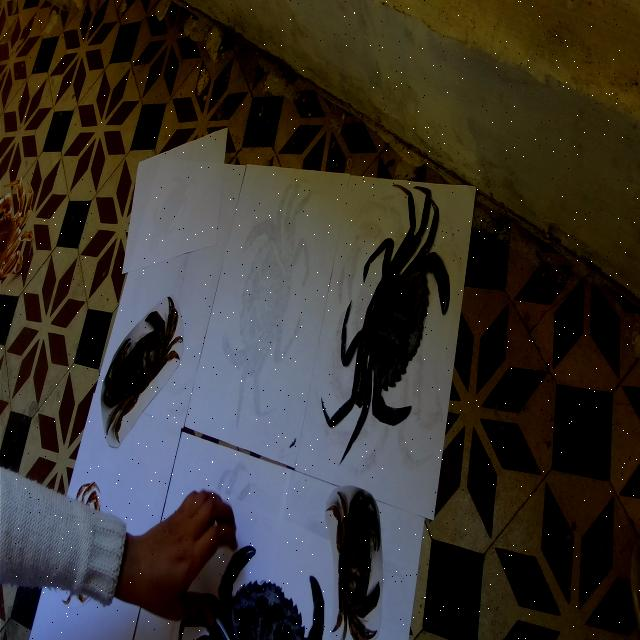European_Green_Crab: (304, 158, 473, 508), (0, 0, 0, 1)
